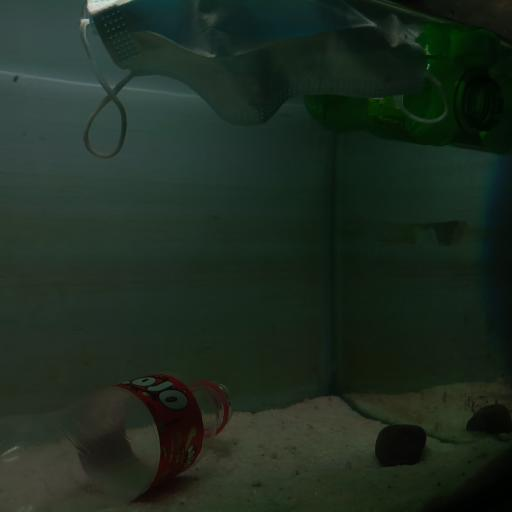mask: (78, 12, 450, 164)
plastic_bottle: (37, 373, 234, 511), (306, 64, 502, 148)
